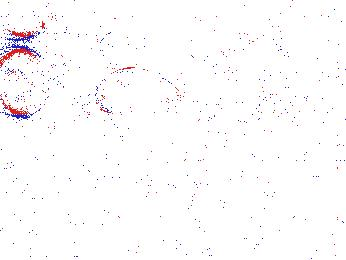moon jellyfish: (217, 34, 287, 132), (274, 61, 346, 136), (90, 67, 182, 120), (62, 42, 113, 116), (1, 46, 51, 117)
